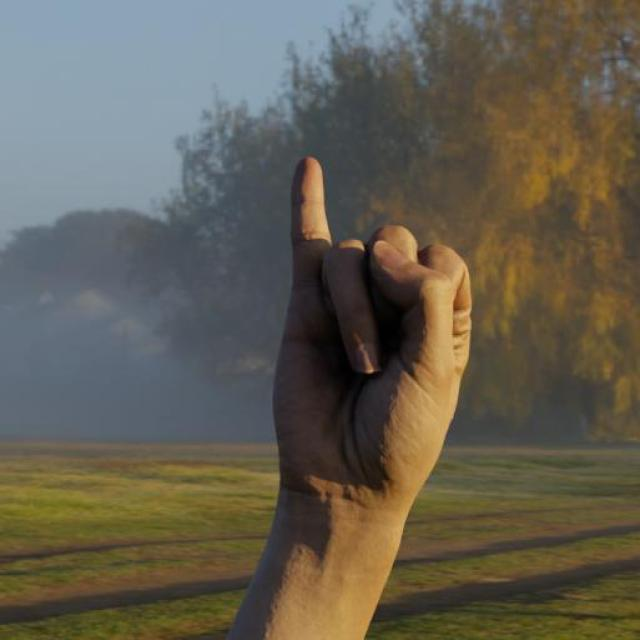I: (228, 124, 511, 640)
